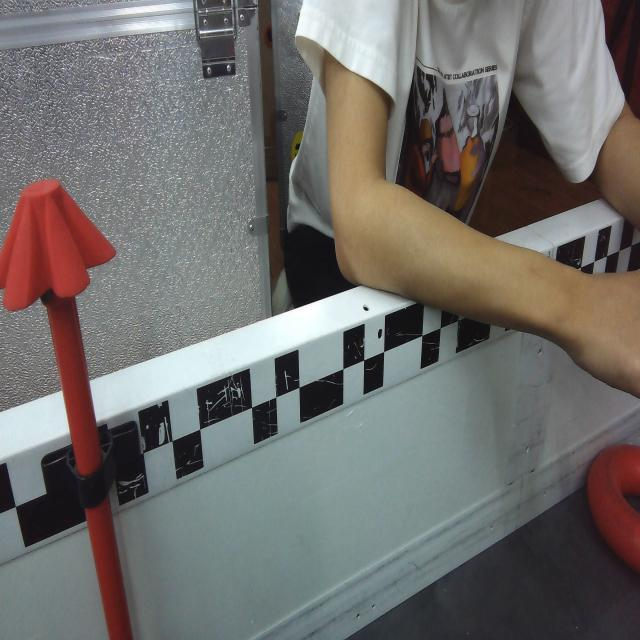Red-Ring: (586, 442, 640, 570)
zred-Stake-Head: (0, 179, 117, 311)
